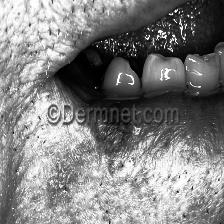Benign Marking or Mole: (91, 102, 132, 152)
